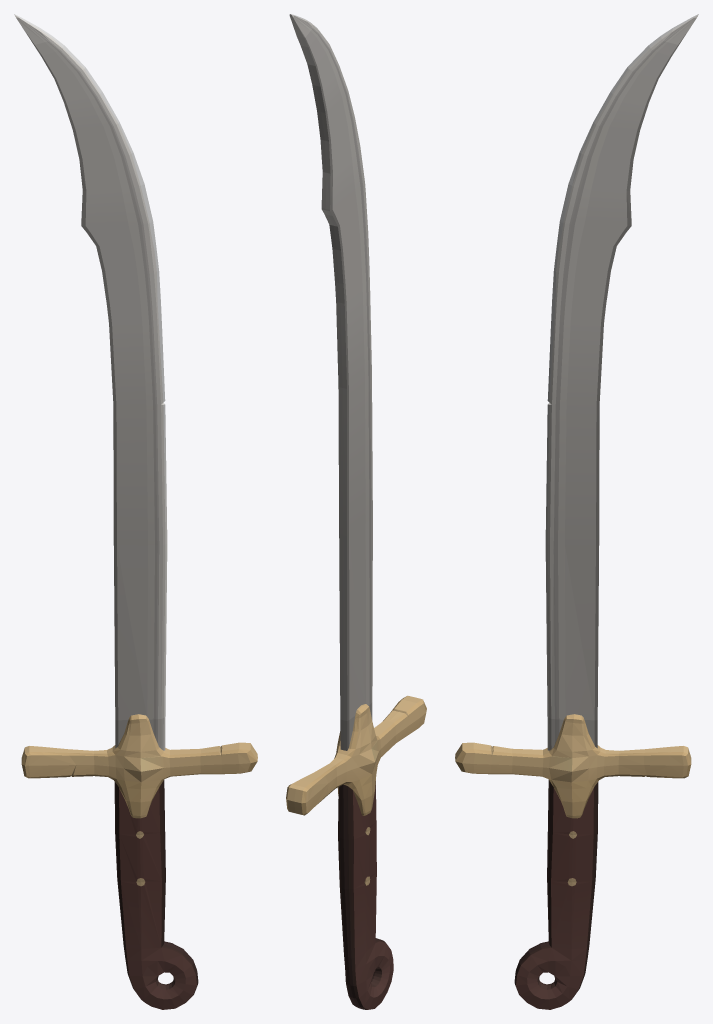
Rendered from bladedHeavyOttomanScimitar.glb.
3 views of the same model, side by side, from view 1: azimuth 90°, elevation 25°; view 2: azimuth 150°, elevation 25°; view 3: azimuth 270°, elevation 25° (orthographic). The views are drawn at different scales.
Parts seen in each view (by area): view 1: bladedHeavyOttomanScimitar; view 2: bladedHeavyOttomanScimitar; view 3: bladedHeavyOttomanScimitar.
Boxes of the visible parts, x1,y1,x2,y2 form: bladedHeavyOttomanScimitar: (14,14,257,1009); bladedHeavyOttomanScimitar: (286,14,426,1009); bladedHeavyOttomanScimitar: (455,14,698,1009).
Bounding box in the file's own units: 0.0369 × 1.05 × 0.2329.
